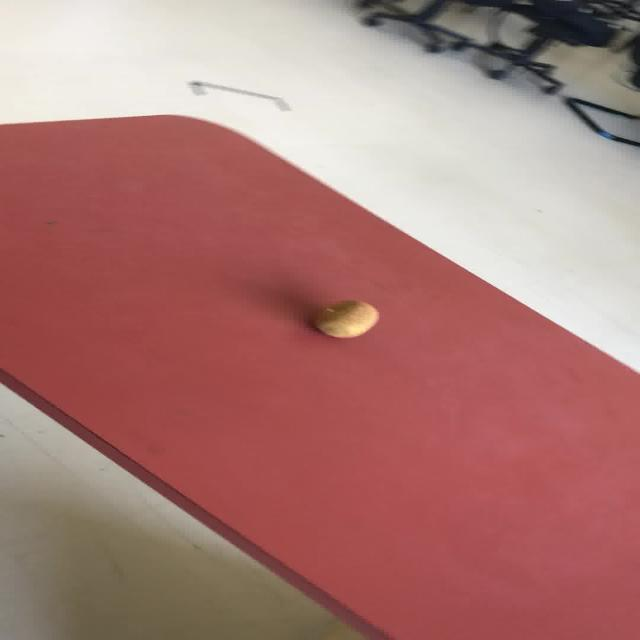kiwi: (312, 300, 379, 338)
